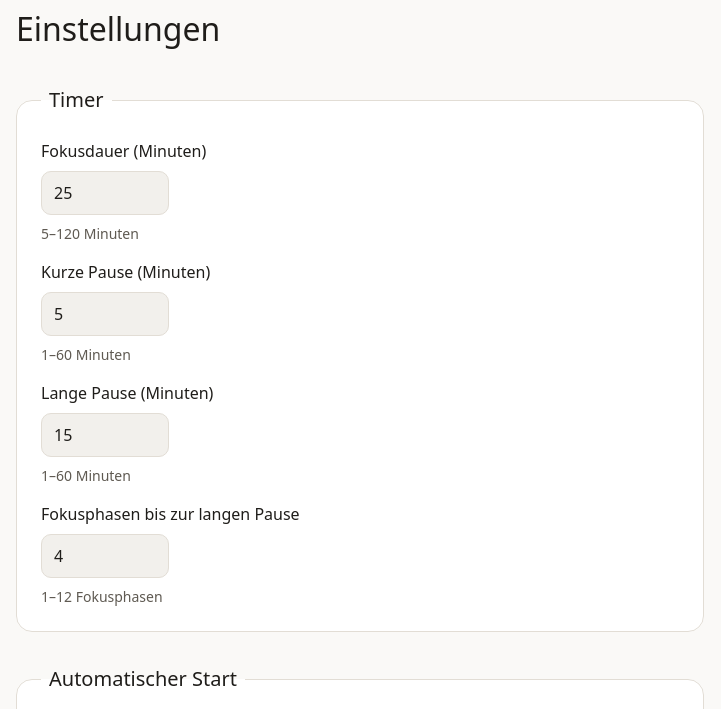
Test case: SettingsView (verdrahtet) › klemmt einen zu kleinen Fokus-Wert auf das Minimum (3 → 5, Req 12.2)
Replace the text in the number field labelled "Fokusdauer (Minuten)" with "3": (105, 193) x1=41 y1=171 x2=169 y2=215
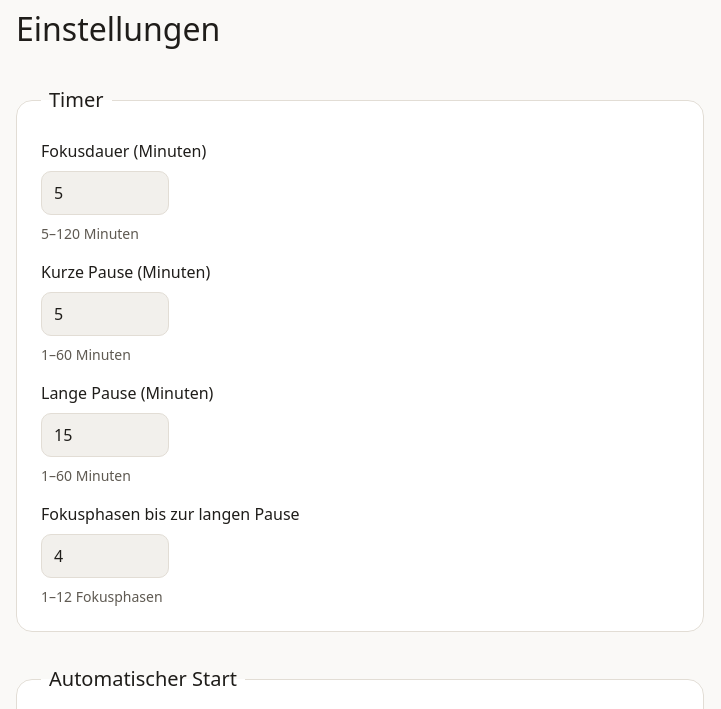
Result: the number field labelled "Fokusdauer (Minuten)" holds "5" at x1=41 y1=171 x2=169 y2=215
